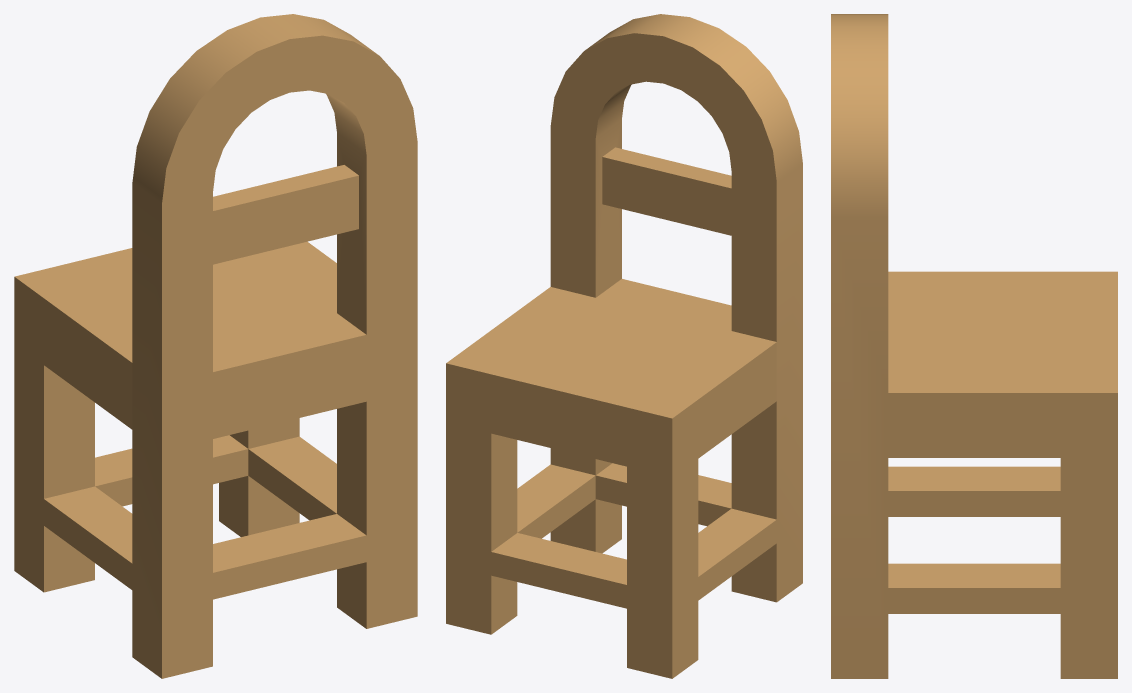
Rendered from chairRounded.glb.
3 views of the same model, side by side, from view 1: azimuth 30°, elevation 25°; view 2: azimuth 150°, elevation 25°; view 3: azimuth 270°, elevation 25° (orthographic). The views are drawn at different scales.
Bounding box in the file's own units: 2 × 4.55 × 2.
